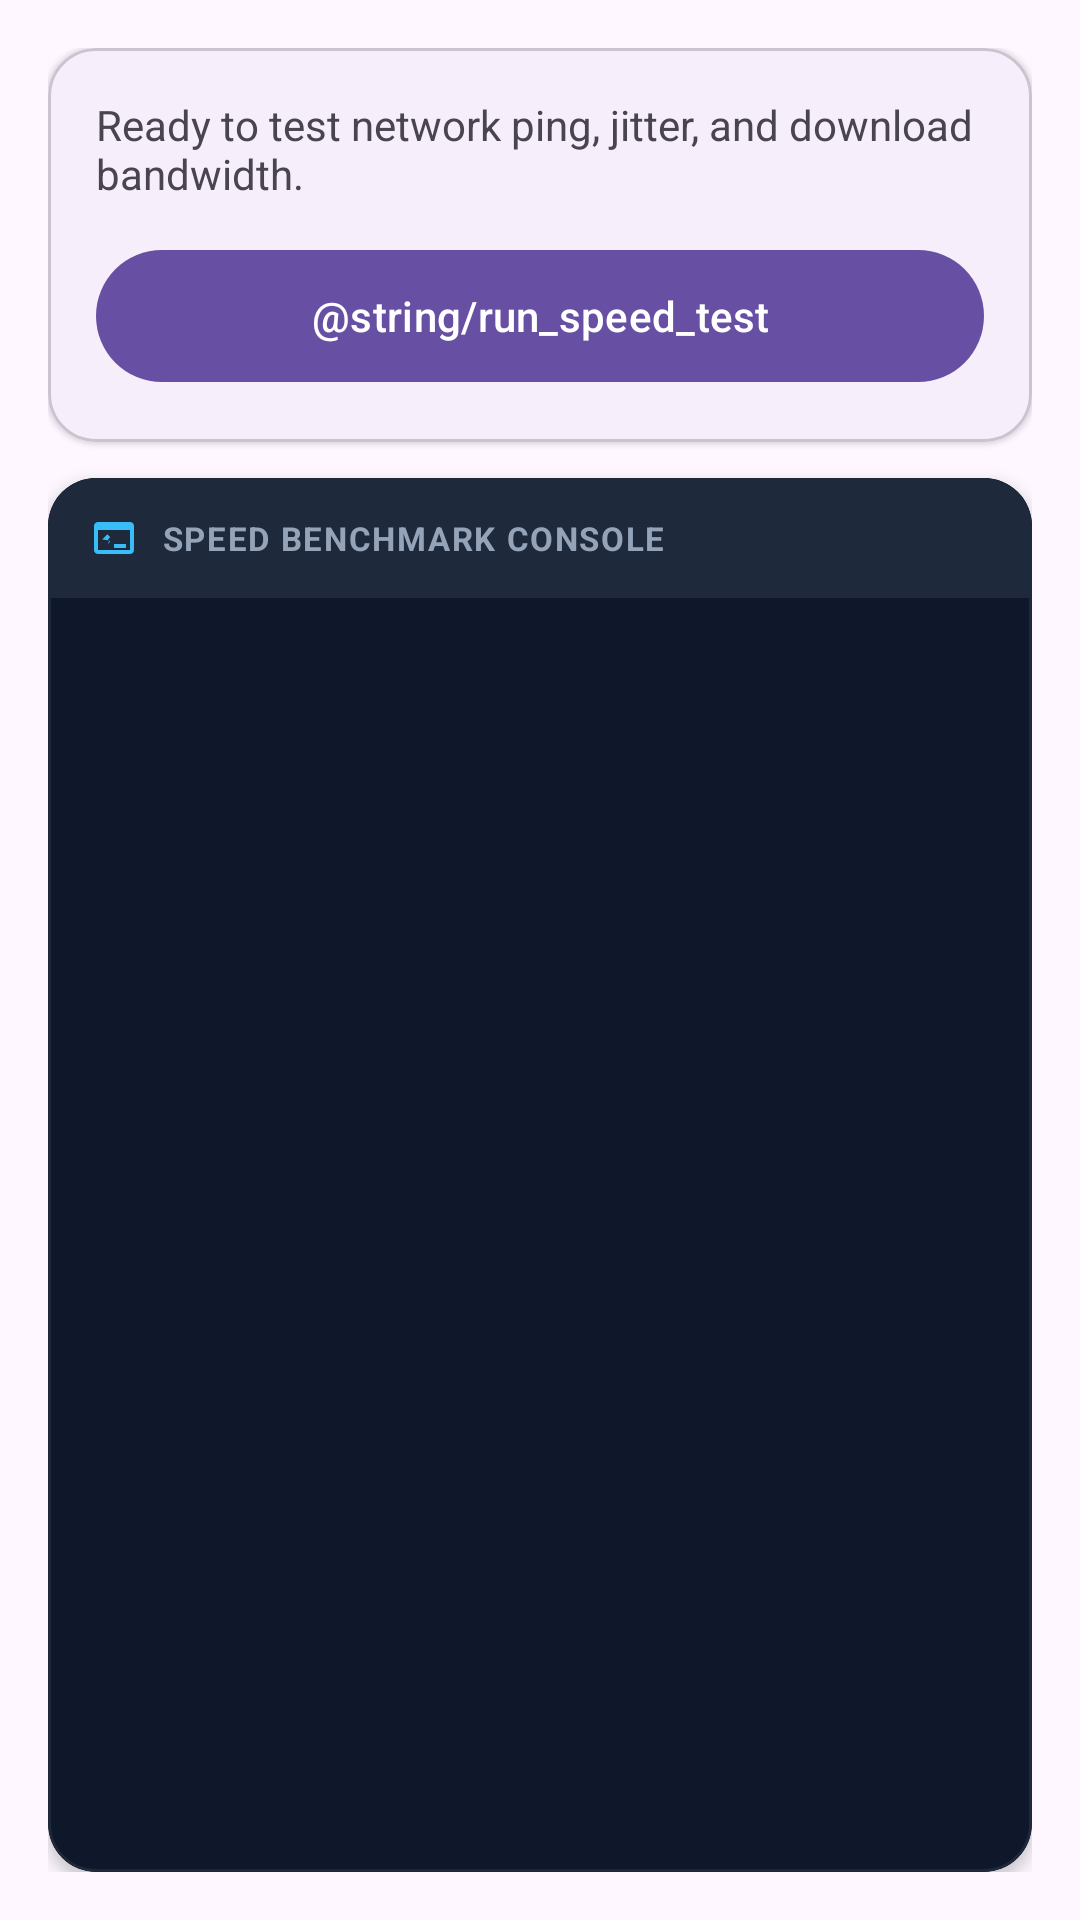

Screen size 1080w x 1920h. Icon name, then its center in pixels as (x,y):
Terminal Icon: (114,538)
